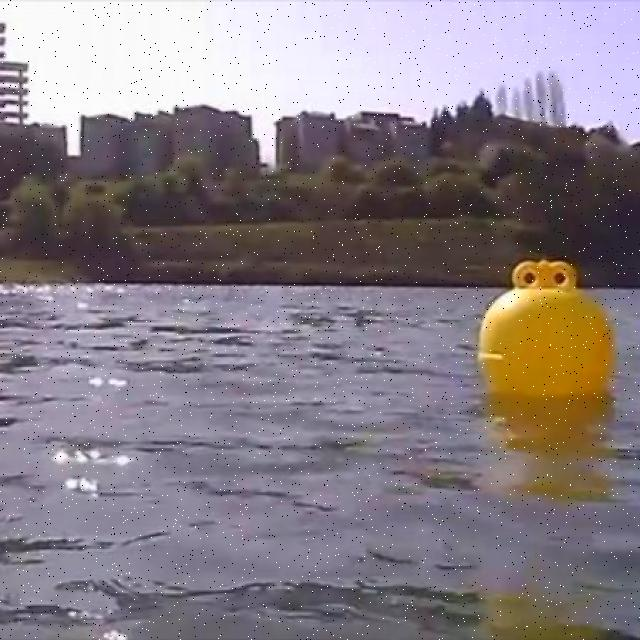buoy: (486, 265, 616, 398)
